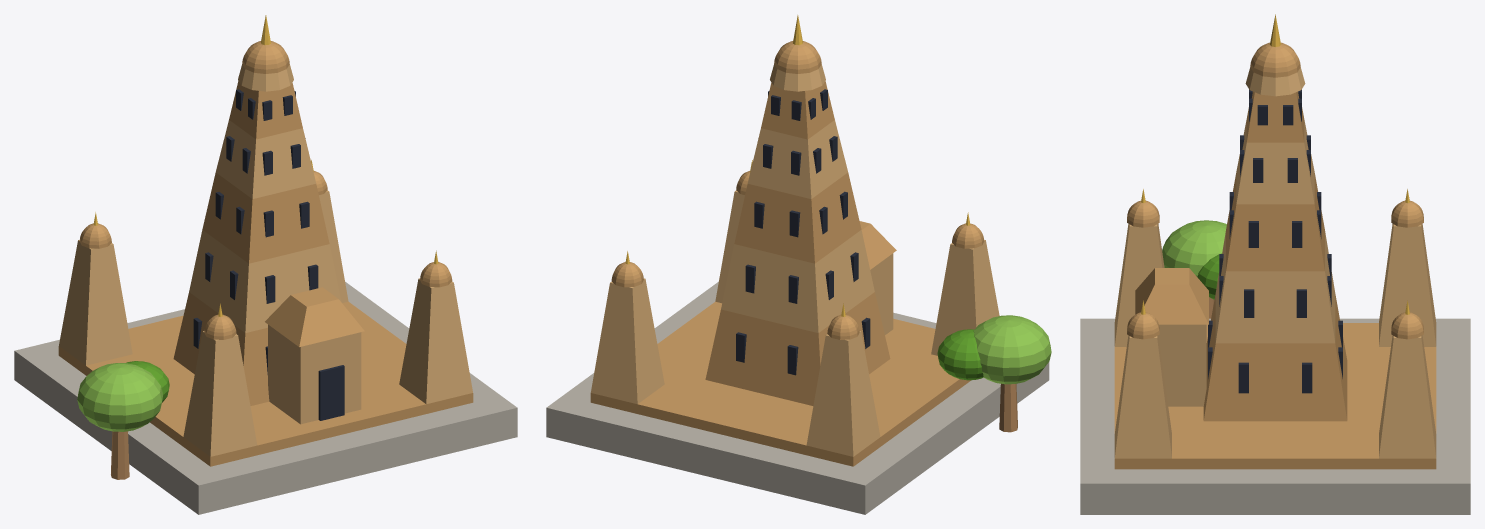
The model's file is mahabodhi-temple.glb.
3 views of the same model, side by side, from view 1: azimuth 30°, elevation 25°; view 2: azimuth 150°, elevation 25°; view 3: azimuth 270°, elevation 25° (orthographic). The views are drawn at different scales.
Visible parts, largest first — view 1: mahabodhi-temple; view 2: mahabodhi-temple; view 3: mahabodhi-temple.
Part boxes in pixels (x1,y1,x2,y2): mahabodhi-temple: [14, 15, 517, 514]; mahabodhi-temple: [546, 15, 1051, 514]; mahabodhi-temple: [1080, 14, 1470, 514].
Size of the model in its own units: 3.98 by 4 by 3.38.
